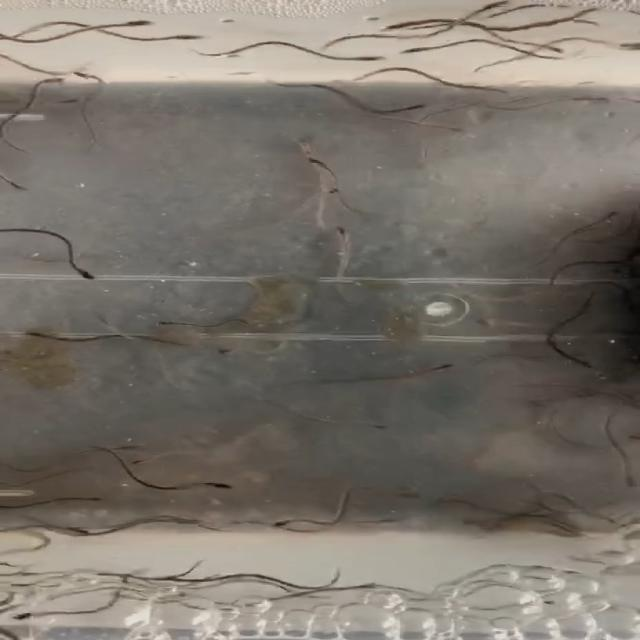active_glass_eel: (349, 416, 395, 434), (120, 453, 171, 468), (67, 260, 105, 280), (88, 308, 124, 329), (202, 476, 244, 494), (8, 604, 54, 619), (104, 440, 150, 454), (15, 330, 60, 344), (376, 18, 428, 30), (170, 32, 208, 48), (342, 70, 380, 86), (54, 524, 92, 540), (519, 594, 565, 607), (480, 6, 522, 20), (106, 16, 154, 28), (151, 589, 195, 602), (396, 99, 434, 114), (296, 142, 324, 162), (76, 69, 108, 86), (266, 515, 298, 532), (561, 358, 599, 372), (522, 42, 566, 54), (415, 142, 442, 161), (437, 120, 473, 134), (428, 362, 470, 374), (357, 514, 399, 526), (394, 45, 439, 56), (44, 95, 82, 108), (303, 150, 330, 168), (32, 72, 72, 84), (75, 490, 109, 504), (352, 53, 388, 66), (0, 178, 33, 192), (616, 470, 640, 489), (201, 348, 246, 358), (328, 224, 356, 240), (150, 318, 190, 329), (613, 37, 640, 53), (594, 209, 622, 223), (314, 186, 346, 196)
